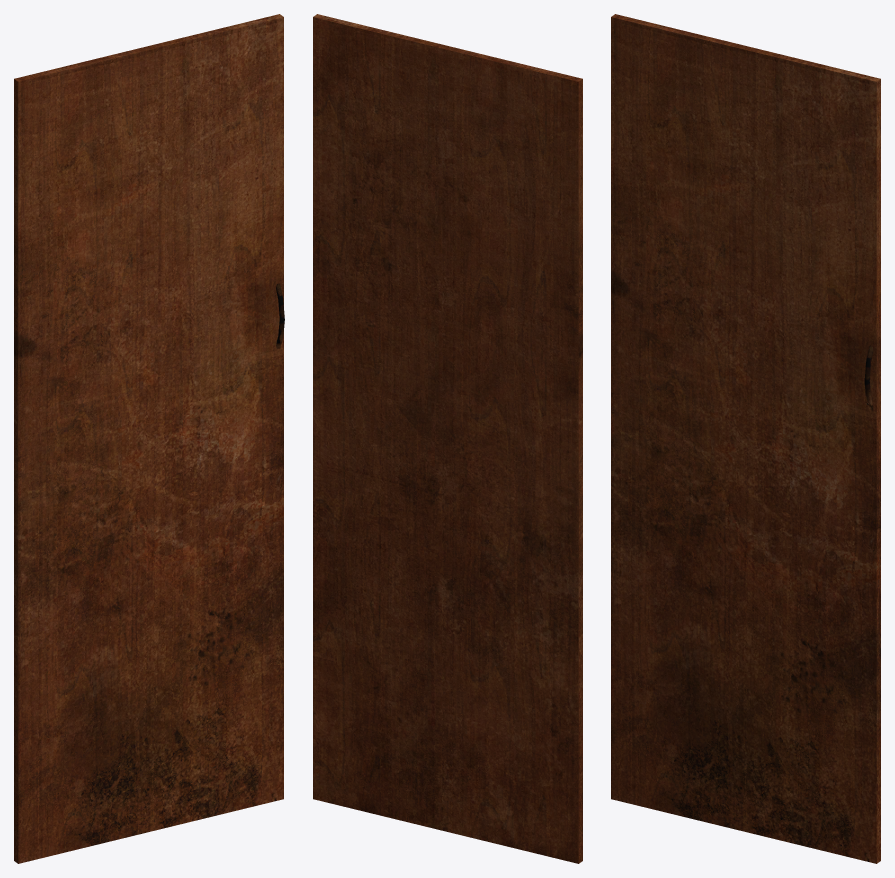
File: closetLeftDoor02_a.FBX
3 renders of one model, left to right at view 1: azimuth 30°, elevation 25°; view 2: azimuth 150°, elevation 25°; view 3: azimuth 330°, elevation 25°, orthographic.
Parts seen in each view (by area): view 1: SM_ClosetLeftDoor02; view 2: SM_ClosetLeftDoor02; view 3: SM_ClosetLeftDoor02.
Boxes of the visible parts, box(x1,y1,x2,y2) form: SM_ClosetLeftDoor02: box(14, 14, 284, 863); SM_ClosetLeftDoor02: box(313, 14, 582, 863); SM_ClosetLeftDoor02: box(611, 14, 880, 863).
Bounding box in the file's own units: 66.02 × 186 × 3.99.
1 material, 1 textured.
